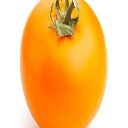tomato: (20, 2, 107, 128)
